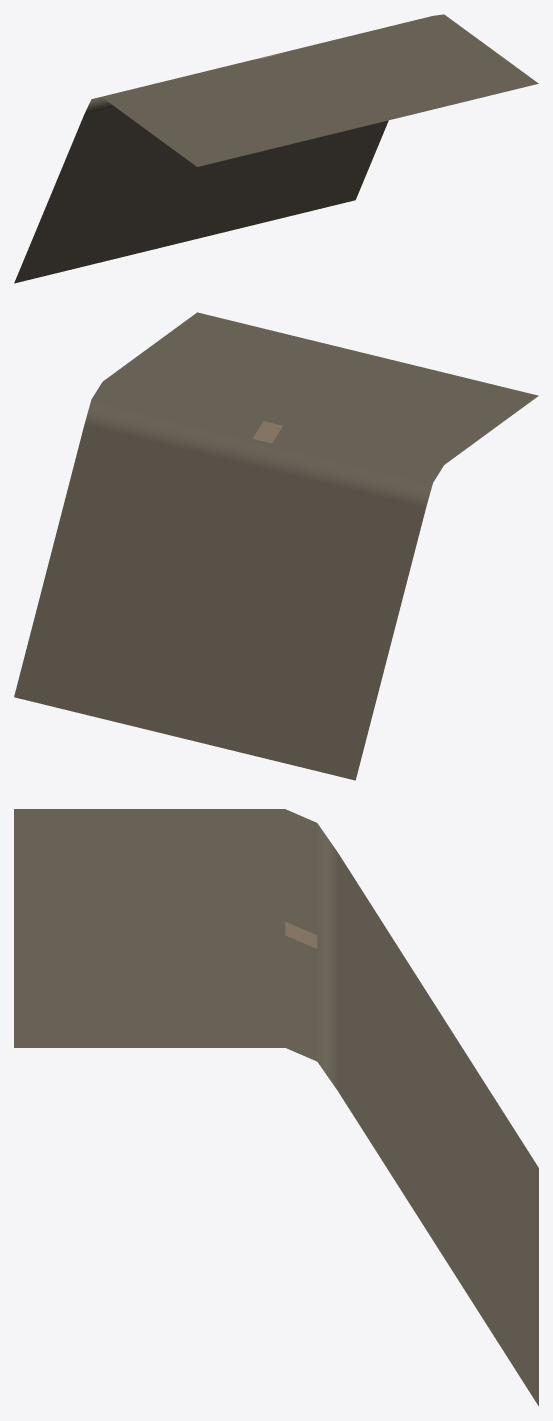
File: board-terrain-user-v1.fbx
3 renders of one model, top to bottom at view 1: azimuth 30°, elevation 25°; view 2: azimuth 150°, elevation 25°; view 3: azimuth 270°, elevation 25°, orthographic. The views are drawn at different scales.
Visible parts, largest first — view 1: BoardTerrain_Rear_60deg; view 2: BoardTerrain_Rear_60deg; view 3: BoardTerrain_Rear_60deg.
Part boxes in pixels (bbox=[...]): BoardTerrain_Rear_60deg: bbox=[14, 14, 538, 283]; BoardTerrain_Rear_60deg: bbox=[14, 312, 538, 780]; BoardTerrain_Rear_60deg: bbox=[14, 809, 538, 1406].
Size of the model in its own units: 360 by 252 by 335.
